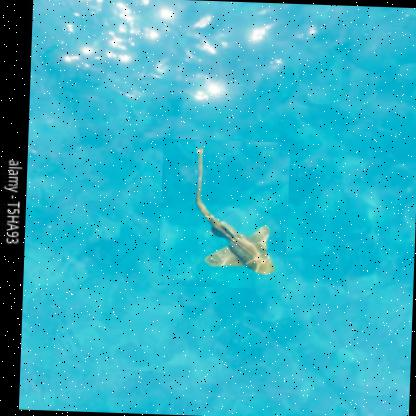zebra_shark: (158, 138, 290, 290)
